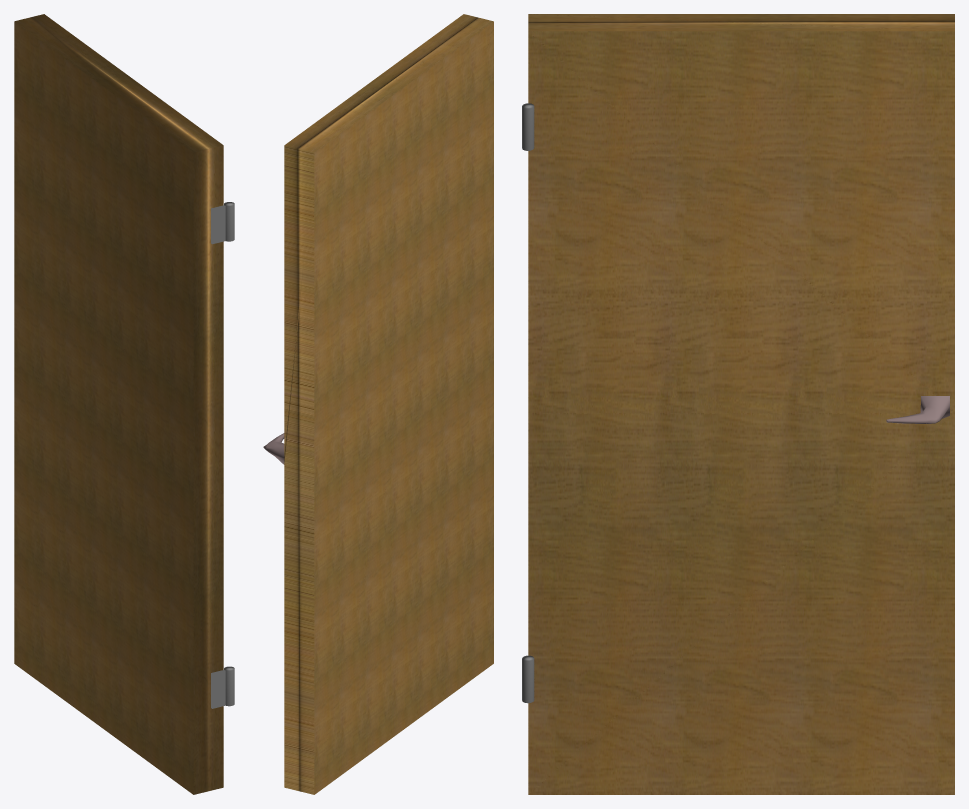
The model's file is DoorCinema.fbx.
3 views of the same model, side by side, from view 1: azimuth 30°, elevation 25°; view 2: azimuth 150°, elevation 25°; view 3: azimuth 270°, elevation 25° (orthographic). The views are drawn at different scales.
Visible parts, largest first — view 1: polySurface2; view 2: polySurface2; view 3: polySurface2, polySurface1.
Boxes of the visible parts, <box> form: polySurface2: <box>14,14,234,794</box>; polySurface2: <box>284,14,493,794</box>; polySurface2: <box>522,14,954,794</box>; polySurface1: <box>886,396,949,423</box>.
Size of the model in its own units: 0.2465 by 2.54 by 1.31.
3 materials, 1 textured.
